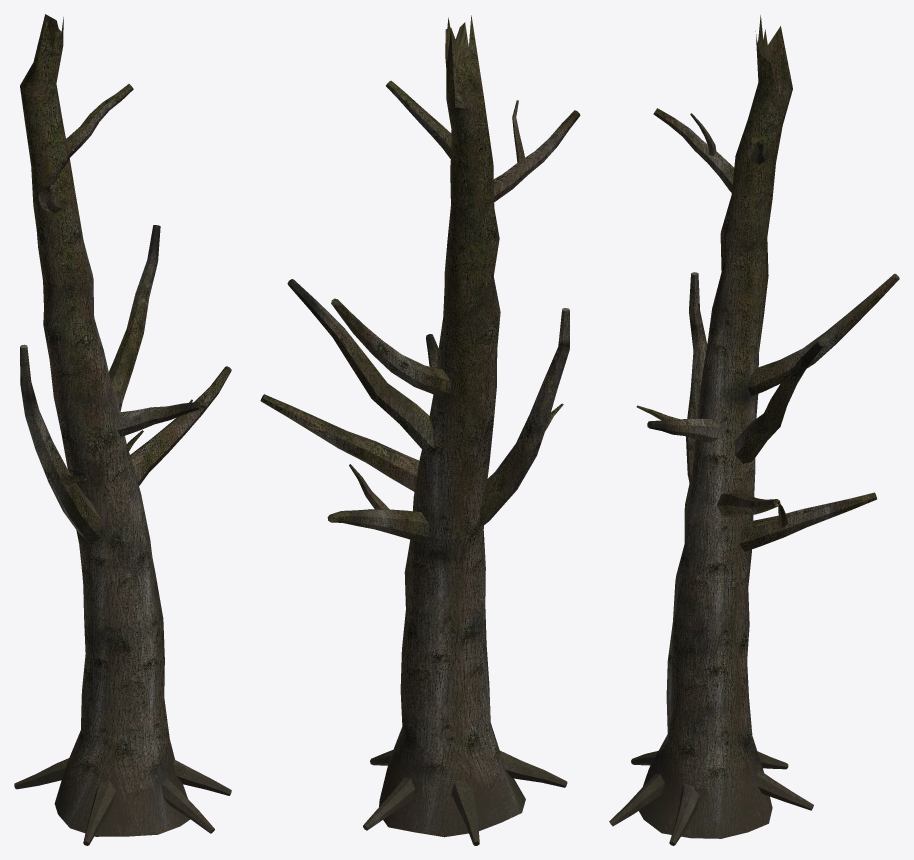
The model's file is dead_tree.glb.
The picture shows the model from 3 angles, left to right: view 1: azimuth 30°, elevation 25°; view 2: azimuth 150°, elevation 25°; view 3: azimuth 270°, elevation 25°; orthographic projection. The views are drawn at different scales.
Visible parts, largest first — view 1: dead_tree_Bark; view 2: dead_tree_Bark; view 3: dead_tree_Bark.
Part boxes in pixels (x1=…): dead_tree_Bark: x1=14, y1=14, x2=231, y2=845; dead_tree_Bark: x1=260, y1=15, x2=580, y2=845; dead_tree_Bark: x1=609, y1=15, x2=899, y2=845.
Size of the model in its own units: 2.61 by 7.81 by 2.66.
Materials: 1 (1 with a texture image).
